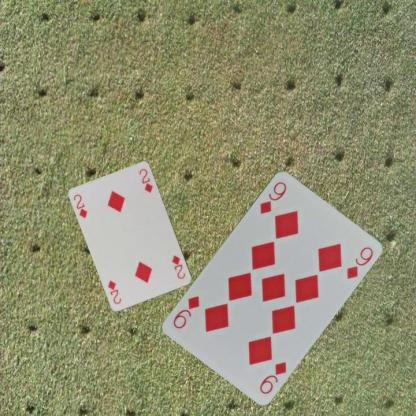2d: (169, 253, 187, 280), (71, 192, 89, 219)
9d: (256, 359, 288, 395), (257, 178, 288, 215)
